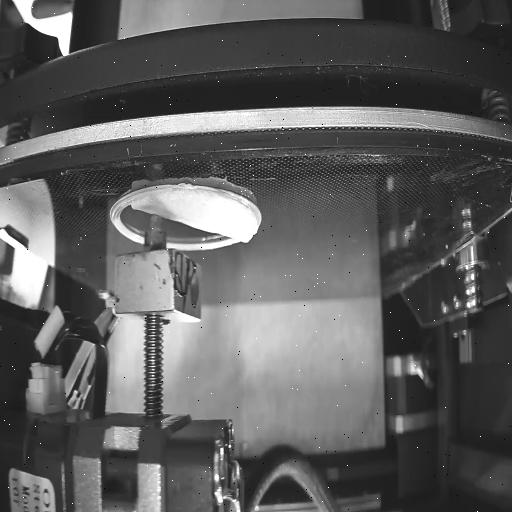over_extrusion: (240, 206, 260, 251)
